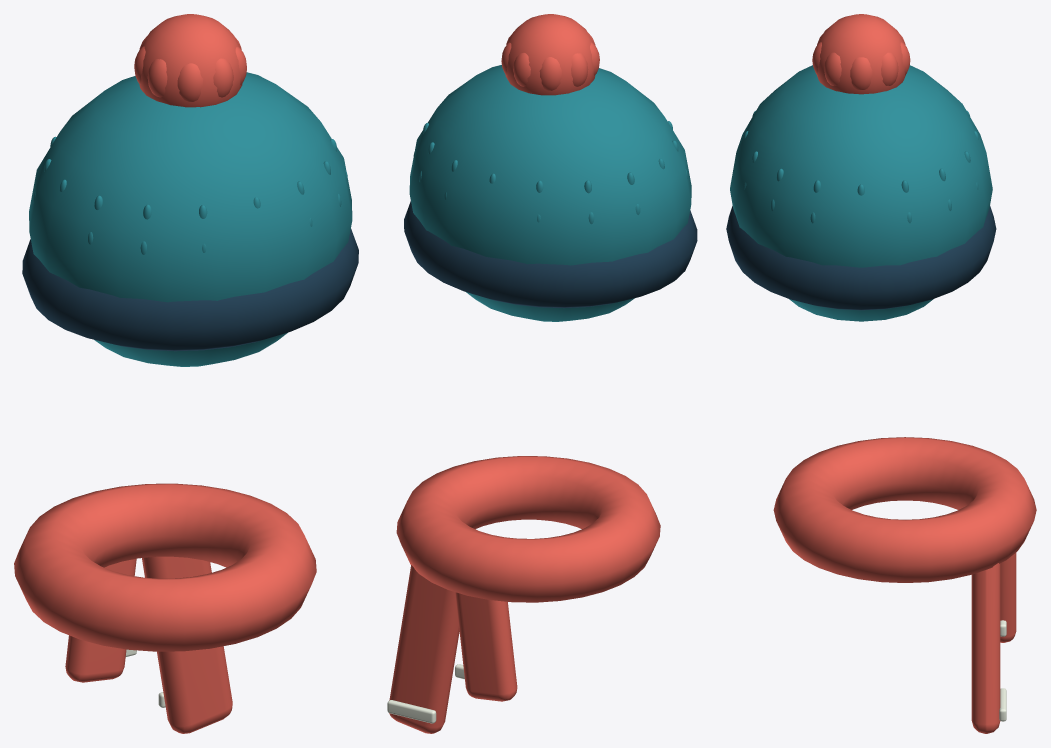
Rendered from accessory-tundra.glb.
3 renders of one model, left to right at view 1: azimuth 30°, elevation 25°; view 2: azimuth 150°, elevation 25°; view 3: azimuth 270°, elevation 25°, orthographic. The views are drawn at different scales.
Visible parts, largest first — view 1: Beanie crown, Scarf collar, Folded navy brim, Scarf long end, Beanie pompom, Scarf short end, Pompom tuft.007, Pompom tuft.006, Pompom tuft.008; view 2: Beanie crown, Scarf collar, Folded navy brim, Scarf long end, Scarf short end, Beanie pompom, Scarf cream stripe, Pompom tuft.004; view 3: Beanie crown, Scarf collar, Folded navy brim, Scarf long end, Beanie pompom, Scarf short end, Pompom tuft.001.
Part boxes in pixels (x1=…): Beanie crown: x1=29, y1=72, x2=352, y2=366; Scarf collar: x1=14, y1=483, x2=316, y2=651; Folded navy brim: x1=22, y1=229, x2=358, y2=351; Scarf long end: x1=142, y1=556, x2=232, y2=733; Beanie pompom: x1=139, y1=14, x2=242, y2=107; Scarf short end: x1=65, y1=558, x2=136, y2=682; Pompom tuft.007: x1=177, y1=63, x2=203, y2=101; Pompom tuft.006: x1=147, y1=59, x2=167, y2=97; Pompom tuft.008: x1=213, y1=58, x2=233, y2=97; Beanie crown: x1=409, y1=65, x2=691, y2=321; Scarf collar: x1=396, y1=456, x2=660, y2=602; Folded navy brim: x1=404, y1=201, x2=697, y2=308; Scarf long end: x1=389, y1=565, x2=459, y2=733; Scarf short end: x1=455, y1=592, x2=517, y2=701; Beanie pompom: x1=505, y1=14, x2=595, y2=95; Scarf cream stripe: x1=387, y1=700, x2=436, y2=723; Pompom tuft.004: x1=539, y1=57, x2=561, y2=90; Beanie crown: x1=730, y1=65, x2=992, y2=321; Scarf collar: x1=773, y1=437, x2=1036, y2=582; Folded navy brim: x1=726, y1=206, x2=996, y2=310; Scarf long end: x1=971, y1=563, x2=1000, y2=733; Beanie pompom: x1=817, y1=14, x2=905, y2=94; Scarf short end: x1=1000, y1=553, x2=1016, y2=642; Pompom tuft.001: x1=850, y1=57, x2=872, y2=89.
Size of the model in its own units: 0.89 by 2.22 by 0.9205.
